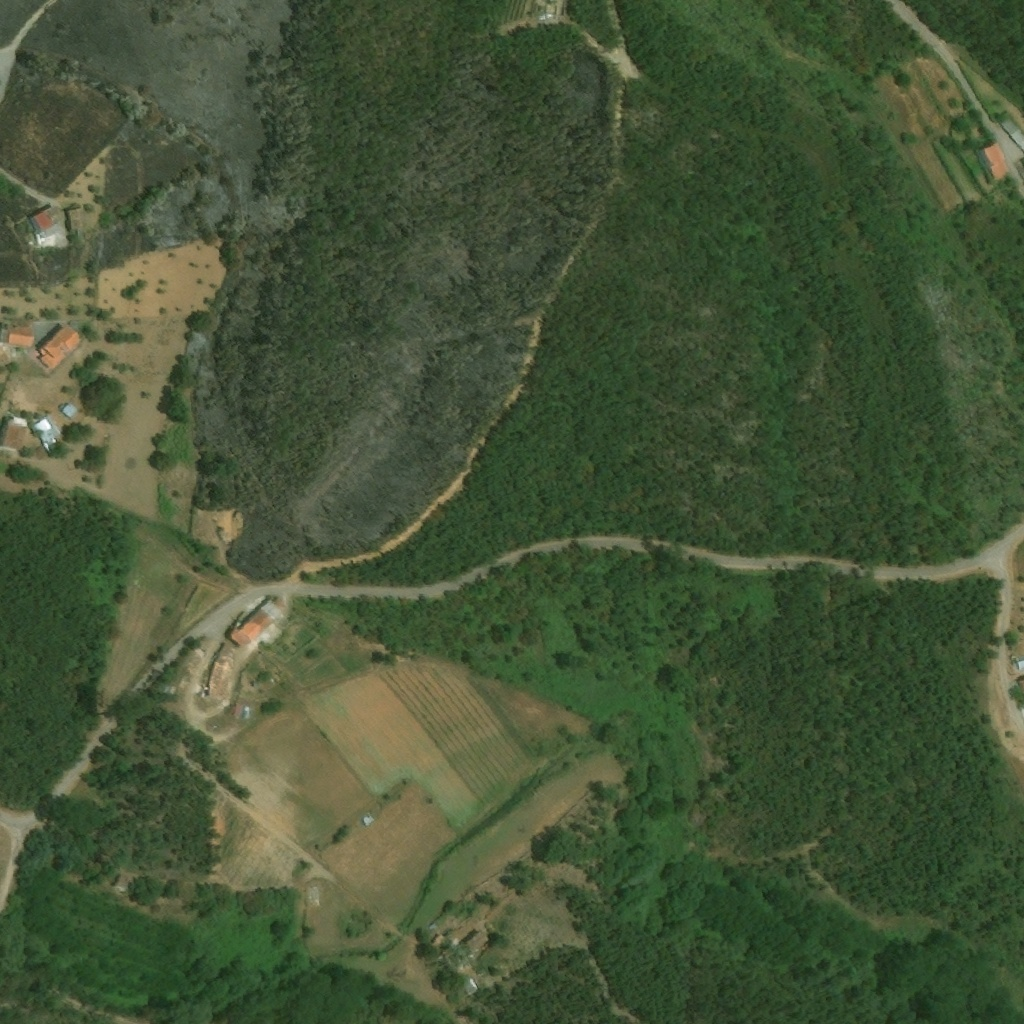0 no-damage: (230, 598, 282, 647), (35, 323, 84, 369), (204, 640, 238, 700), (984, 139, 1012, 181), (0, 416, 32, 449), (27, 205, 59, 237), (999, 116, 1023, 149), (0, 326, 35, 347), (460, 931, 485, 953), (68, 206, 85, 231), (58, 402, 79, 421), (110, 874, 129, 893), (460, 977, 477, 996)
4 un-classified: (1016, 658, 1023, 670)
